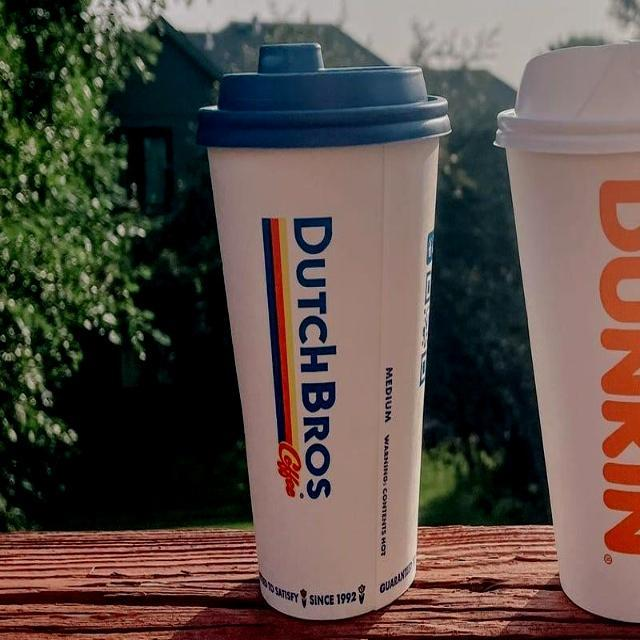paper_cup: (199, 44, 452, 630), (493, 49, 640, 626)
